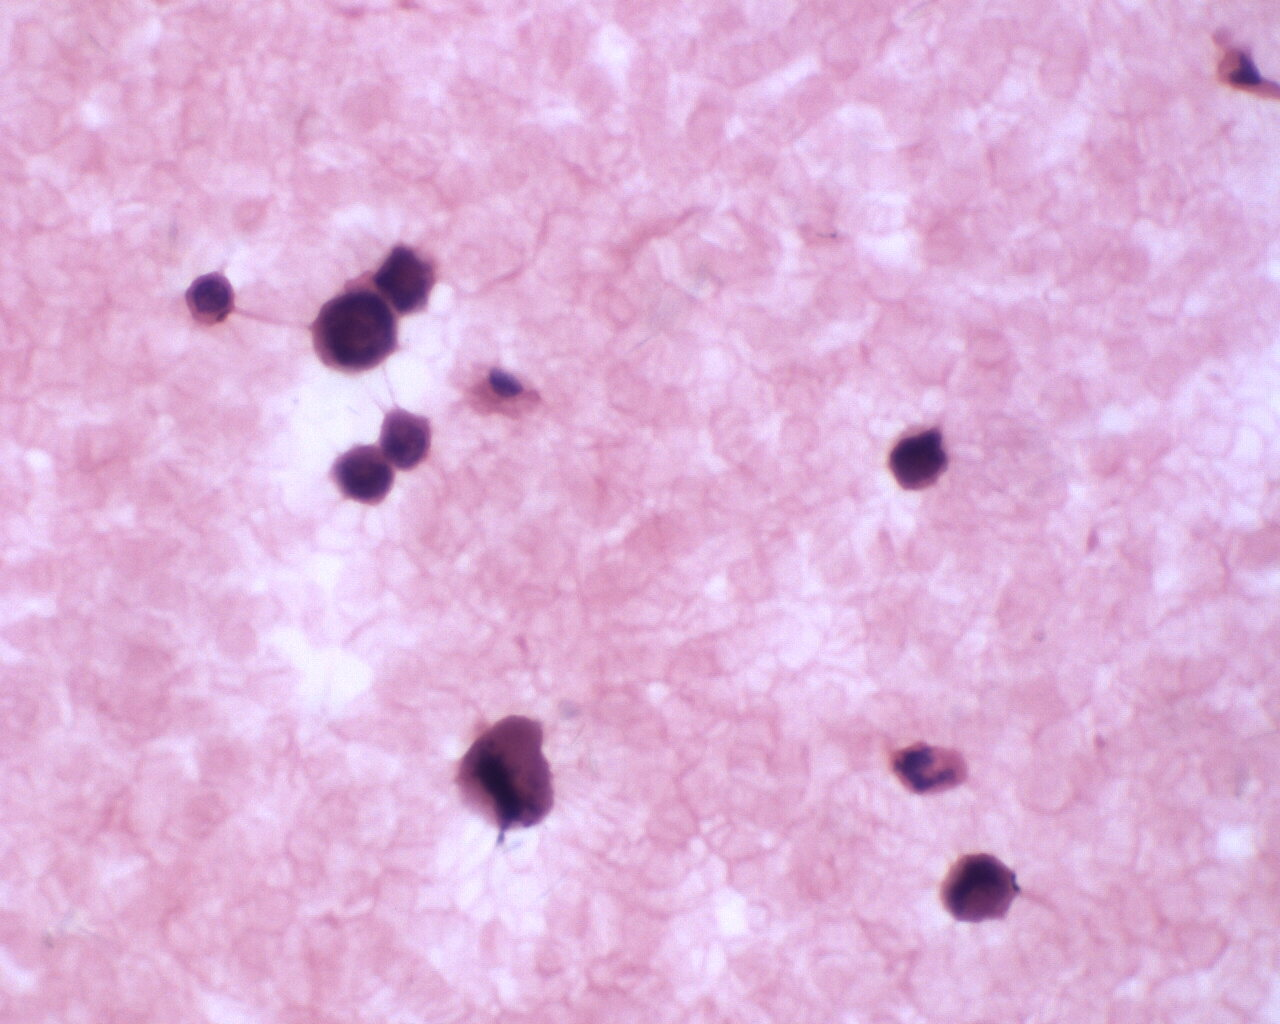ab: (309, 288, 404, 375), (941, 844, 1023, 927), (882, 422, 950, 495), (329, 442, 397, 509), (370, 406, 437, 471), (185, 267, 243, 327)
